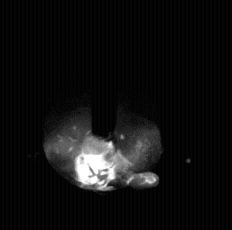arame: (91, 0, 119, 143)
poca: (43, 0, 163, 230)
